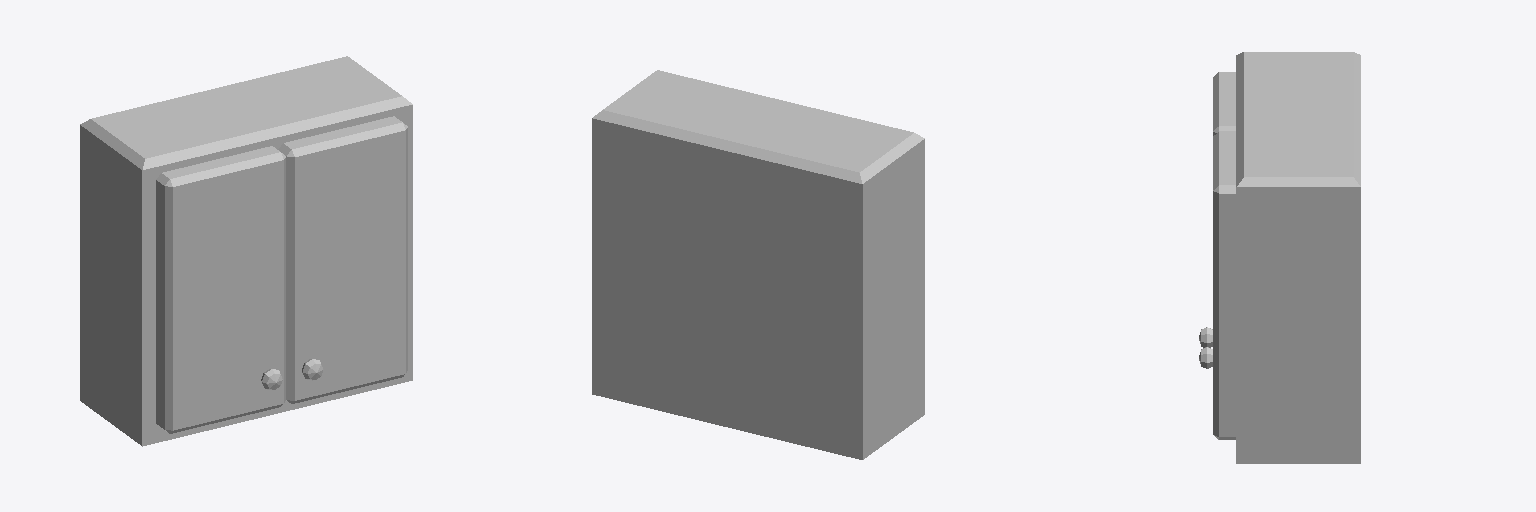
Rendered from kitchencabinet.obj.
3 views of the same model, side by side, from view 1: azimuth 30°, elevation 25°; view 2: azimuth 150°, elevation 25°; view 3: azimuth 270°, elevation 25° (orthographic).
Parts seen in each view (by area): view 1: kitchencabinet_Cube.220; view 2: kitchencabinet_Cube.220; view 3: kitchencabinet_Cube.220.
Boxes of the visible parts, x1,y1,x2,y2 form: kitchencabinet_Cube.220: [80, 56, 412, 446]; kitchencabinet_Cube.220: [592, 70, 924, 459]; kitchencabinet_Cube.220: [1199, 52, 1360, 463].
Bounding box in the file's own units: 2 × 2 × 1.04.